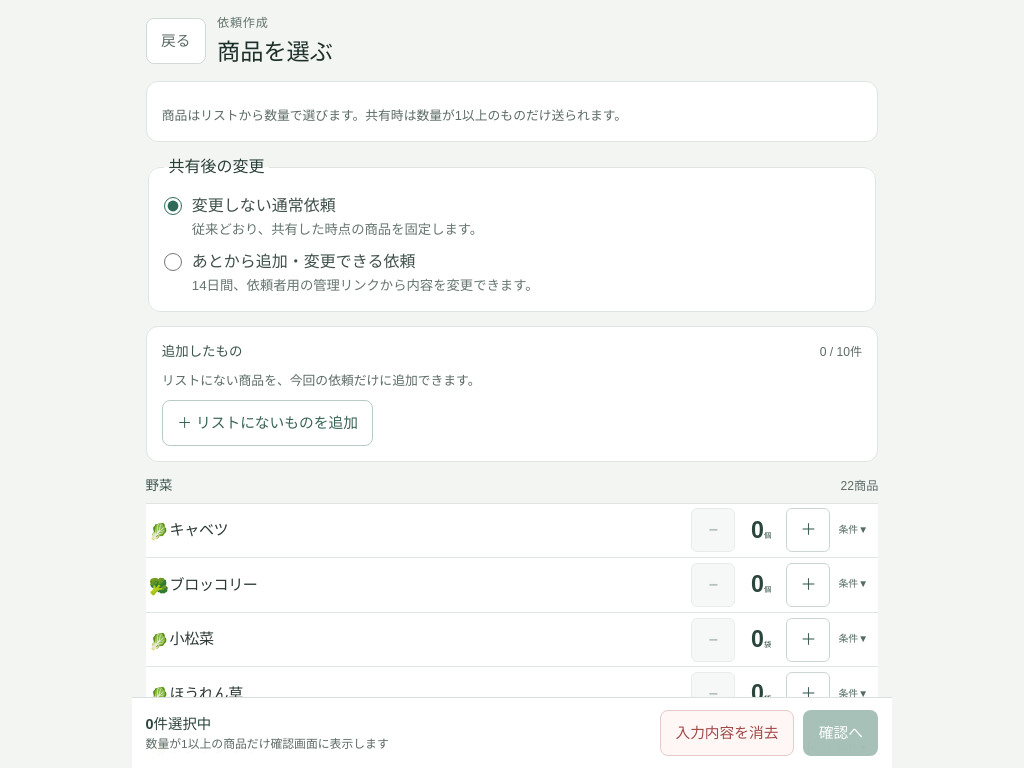
Test: manual validation UI gate › shows photo and v5 controls only after the Worker verifies the session
expect the element with class "request-sharing-mode" is shown: met, box x1=148 y1=155 x2=876 y2=312
Click the button with class "detail-toggle" in the row of "キャベツ": click(853, 530) x1=831 y1=508 x2=875 y2=552
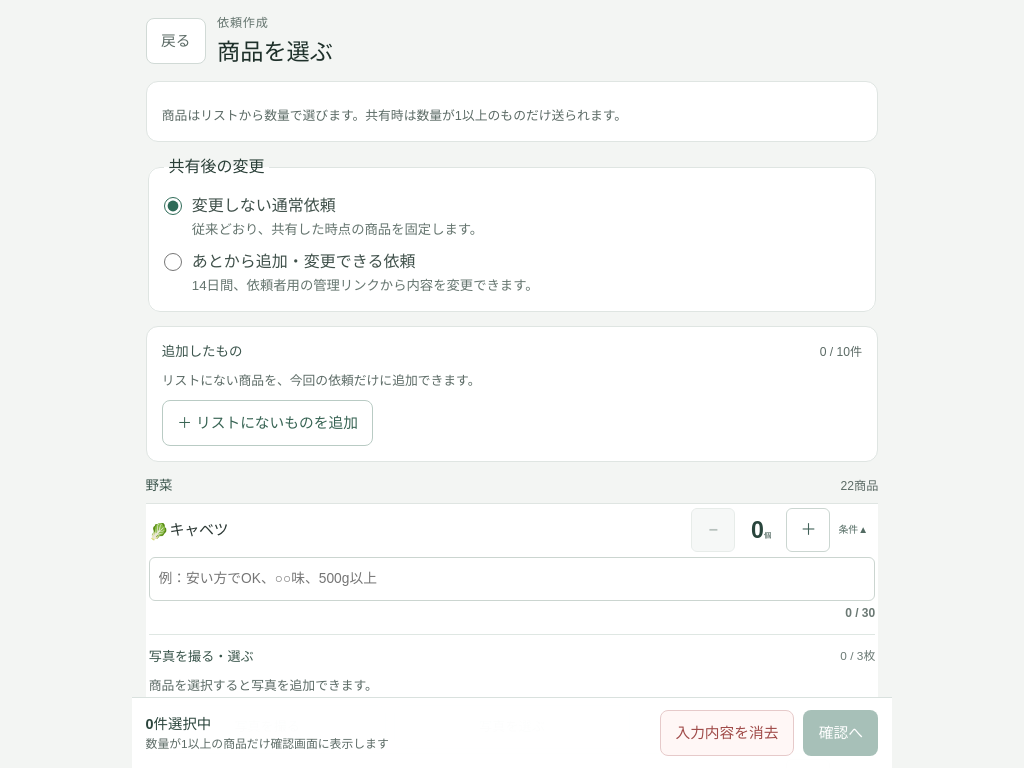
expect the element showing "写真を撮る・選ぶ 0 / 3枚 商品を選択すると写真を追加できます。 写真を撮る 写真を選ぶ" is shown: met, box x1=149 y1=634 x2=875 y2=749
